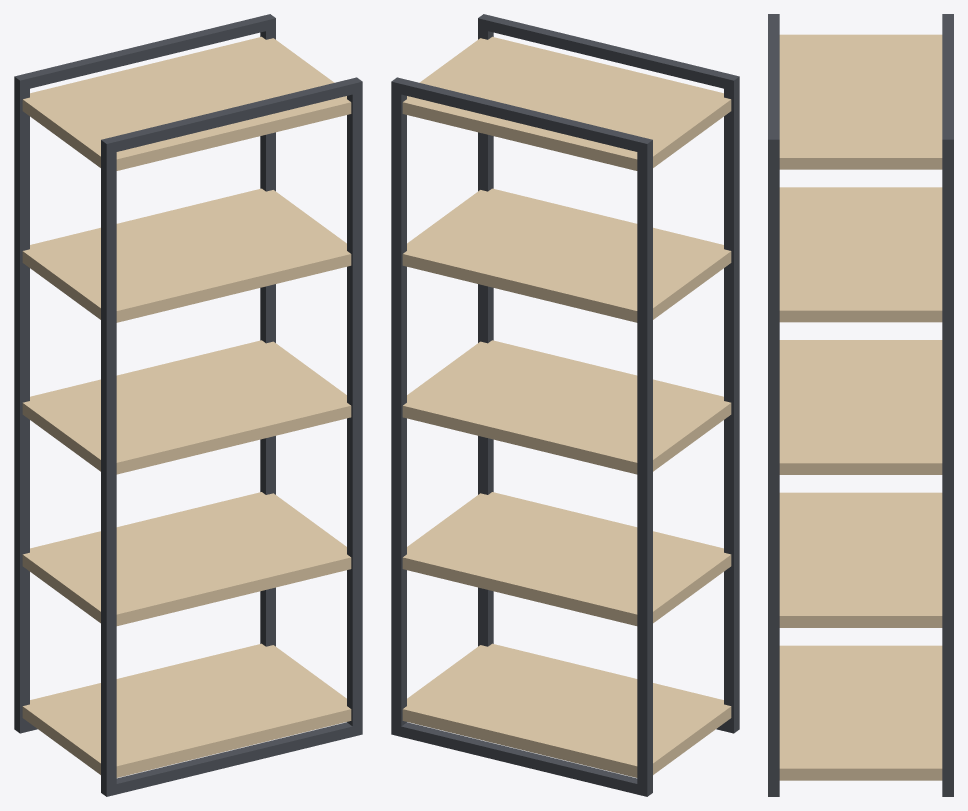
The model's file is lyra-siyah.glb.
3 renders of one model, left to right at view 1: azimuth 30°, elevation 25°; view 2: azimuth 150°, elevation 25°; view 3: azimuth 270°, elevation 25°, orthographic.
Bounding box in the file's own units: 0.64 × 1.56 × 0.4.
